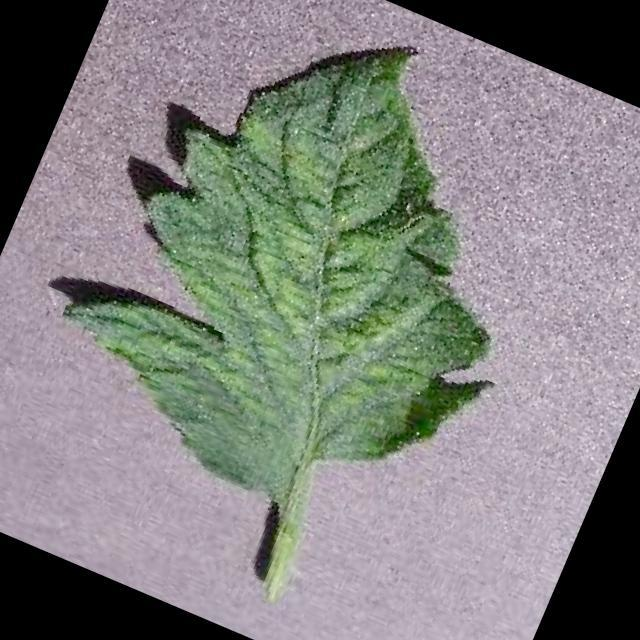Tomato mosaic virus leaf: (24, 0, 596, 561)
